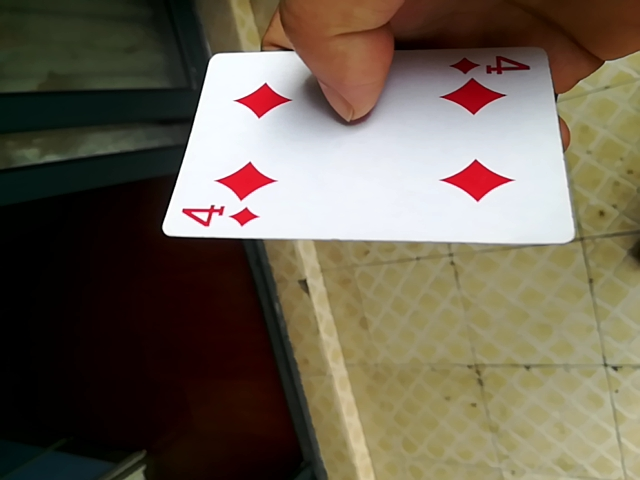fk 4: (154, 40, 585, 242)
